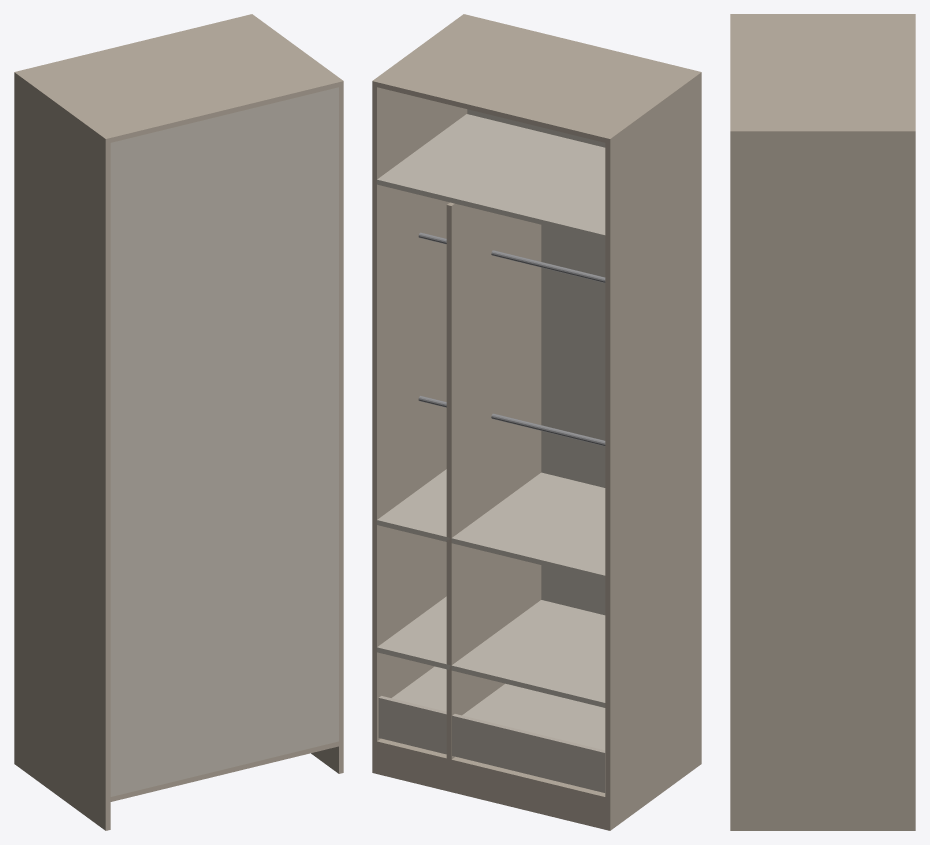
3 views of the same model, side by side, from view 1: azimuth 30°, elevation 25°; view 2: azimuth 150°, elevation 25°; view 3: azimuth 270°, elevation 25° (orthographic).
Parts seen in each view (by area): view 1: 004_ARKALIK, 000_GOVDE_SOL, 002_GOVDE_UST, 001_GOVDE_SAG, 003_GOVDE_ALT; view 2: 000_GOVDE_SOL, 006_IC_DIKME, 001_GOVDE_SAG, 002_GOVDE_UST, 004_ARKALIK, 009_RAF_3, 007_RAF_1, 008_RAF_2, 010_CEKMECE_ON_1, 011_CEKMECE_KUTU_1, 005_BAZA, 003_GOVDE_ALT (+2 smaller); view 3: 001_GOVDE_SAG, 002_GOVDE_UST, 000_GOVDE_SOL.
Boxes of the visible parts, bbox=[...] form: 004_ARKALIK: bbox=[110, 87, 338, 796]; 000_GOVDE_SOL: bbox=[14, 71, 110, 830]; 002_GOVDE_UST: bbox=[19, 15, 338, 142]; 001_GOVDE_SAG: bbox=[247, 14, 343, 773]; 003_GOVDE_ALT: bbox=[110, 741, 338, 801]; 000_GOVDE_SOL: bbox=[605, 71, 701, 830]; 006_IC_DIKME: bbox=[446, 202, 541, 759]; 001_GOVDE_SAG: bbox=[372, 14, 468, 773]; 002_GOVDE_UST: bbox=[377, 15, 696, 142]; 004_ARKALIK: bbox=[467, 109, 605, 615]; 009_RAF_3: bbox=[377, 114, 605, 239]; 007_RAF_1: bbox=[377, 596, 605, 707]; 008_RAF_2: bbox=[377, 469, 605, 580]; 010_CEKMECE_ON_1: bbox=[378, 696, 605, 792]; 011_CEKMECE_KUTU_1: bbox=[391, 666, 605, 750]; 005_BAZA: bbox=[377, 746, 605, 829]; 003_GOVDE_ALT: bbox=[377, 738, 605, 801]; 001_GOVDE_SAG: bbox=[730, 129, 915, 830]; 002_GOVDE_UST: bbox=[730, 16, 915, 128]; 000_GOVDE_SOL: bbox=[730, 14, 915, 16].
Bounding box in the file's own units: 0.9 × 2.5 × 0.6.
